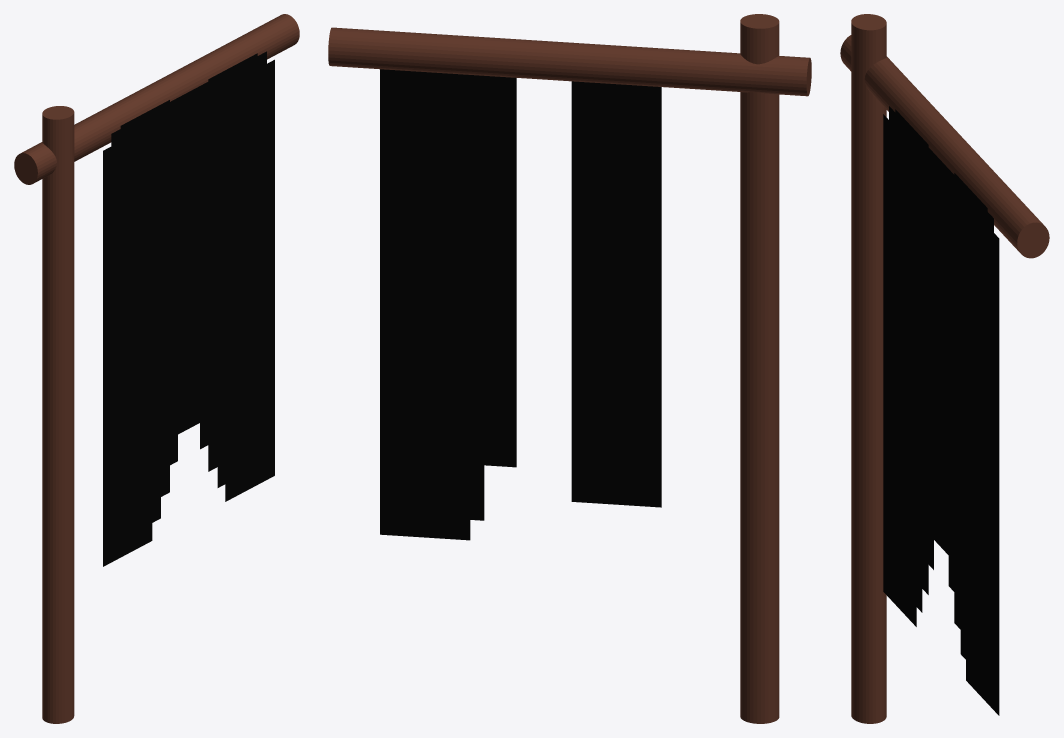
The model's file is Drapeau noir.fbx.
3 views of the same model, side by side, from view 1: azimuth 30°, elevation 25°; view 2: azimuth 150°, elevation 25°; view 3: azimuth 270°, elevation 25° (orthographic). The views are drawn at different scales.
Parts seen in each view (by area): view 1: Plan.008; view 2: Plan.008; view 3: Plan.008.
Boxes of the visible parts, x1=… form: Plan.008: x1=14, y1=14, x2=299, y2=723; Plan.008: x1=328, y1=14, x2=811, y2=723; Plan.008: x1=840, y1=14, x2=1049, y2=723.
Bounding box in the file's own units: 1.08 × 0.4907 × 1.8.
